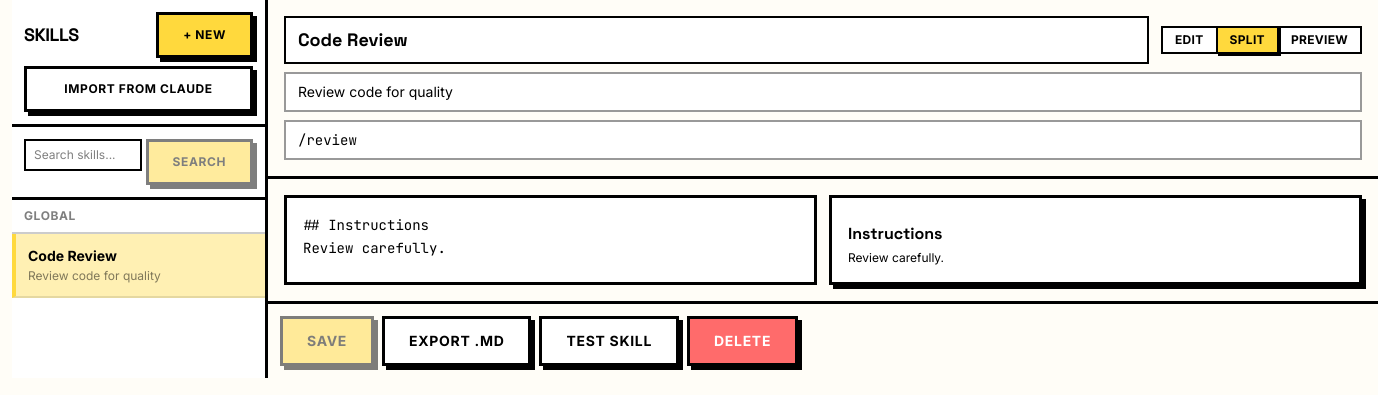
Scenario: SkillEditor › shows Unsaved badge when content is edited
The image size is (1378, 395).
Check: the text "Unsaved" is not shown
Replace the text in the text box with test id "skill-content-editor" with "changed". click: {"x": 550, "y": 240}
box: [284,195,817,285]
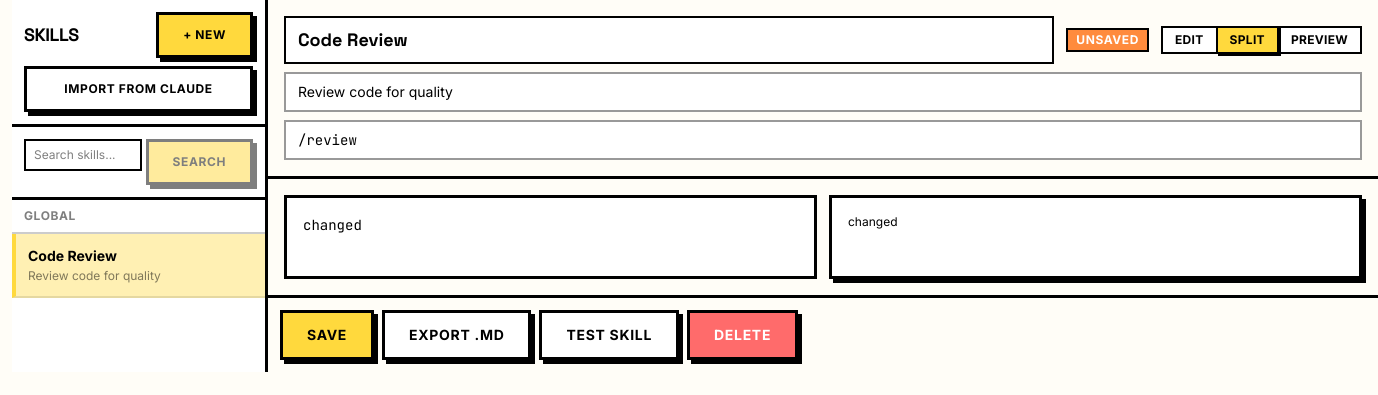
Check: the text "Unsaved" is shown, box [1066,28,1149,52]
